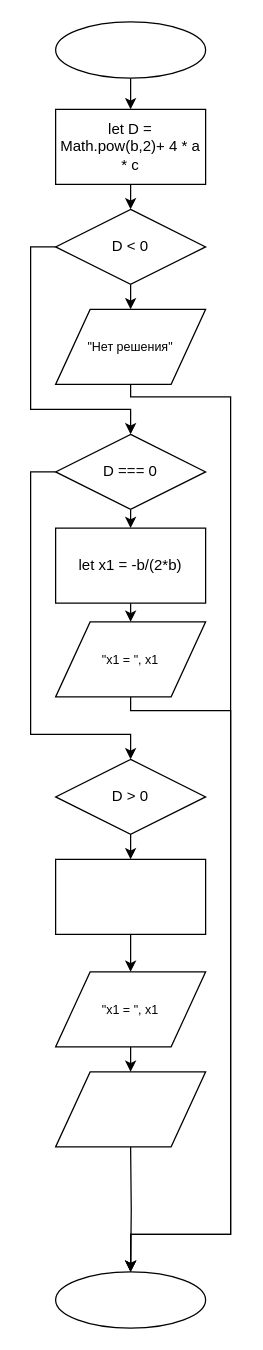
The diagram is 263 pixels wide and 1350 high, and some of its shapes have lost their labels. Here are the shapes that lost their labels. From the top down, the centre of each, then its label:
point 130,49: Начало
point 130,896: let x1 = (-b + Math.sqrt(D)) / (2*a), x2 = (-b - Math.sqrt(D)) / (2*a)
point 130,1109: "x2 = ", x2
point 130,1299: Конец
